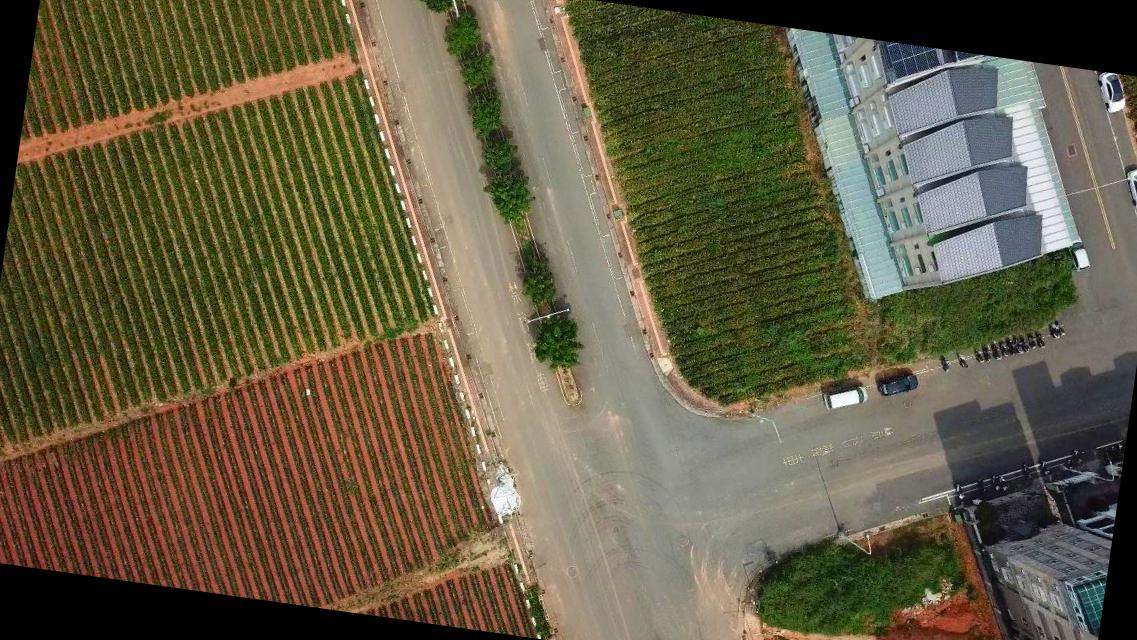vehicle: (1091, 72, 1128, 116), (822, 381, 869, 415), (1062, 232, 1096, 276), (876, 369, 920, 402), (1123, 166, 1136, 212)
